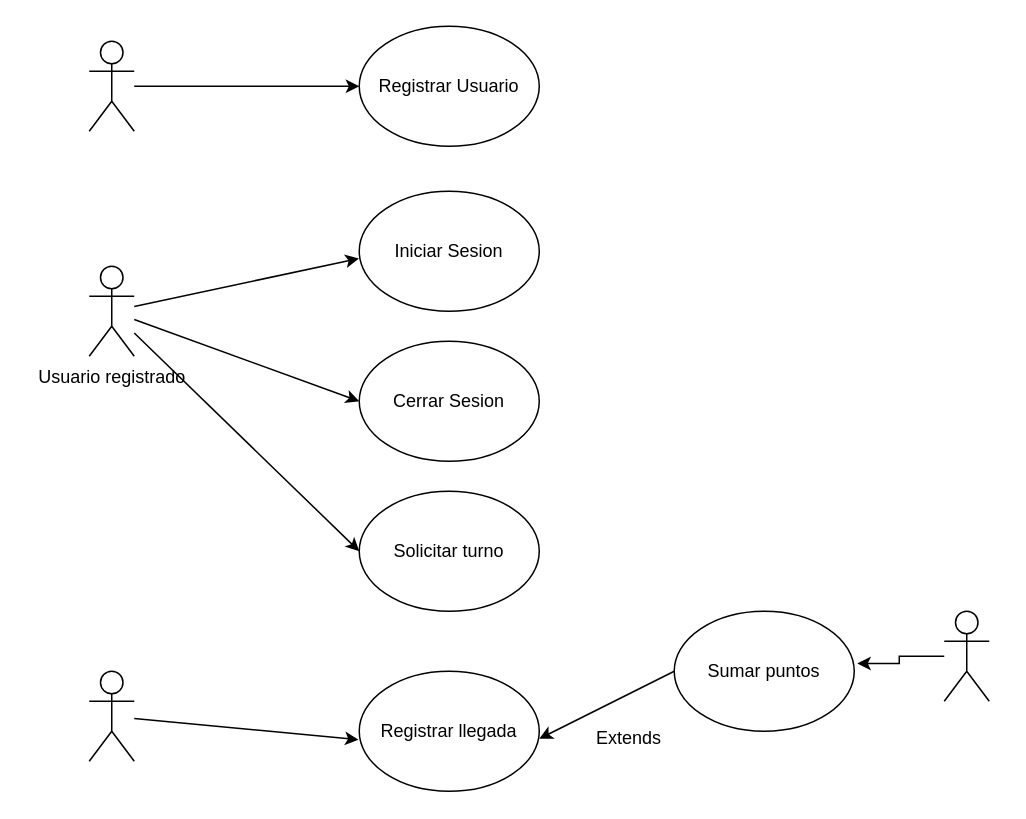
Image size: 1026x819. Some labels were removed from this diagram. The box of each missing label's shape, as (x1, y1, x2, y2) in pixels:
Secretaria: (88, 670, 134, 761)
Servidor externo: (943, 610, 989, 701)
Usuario no registrado: (88, 40, 134, 131)
